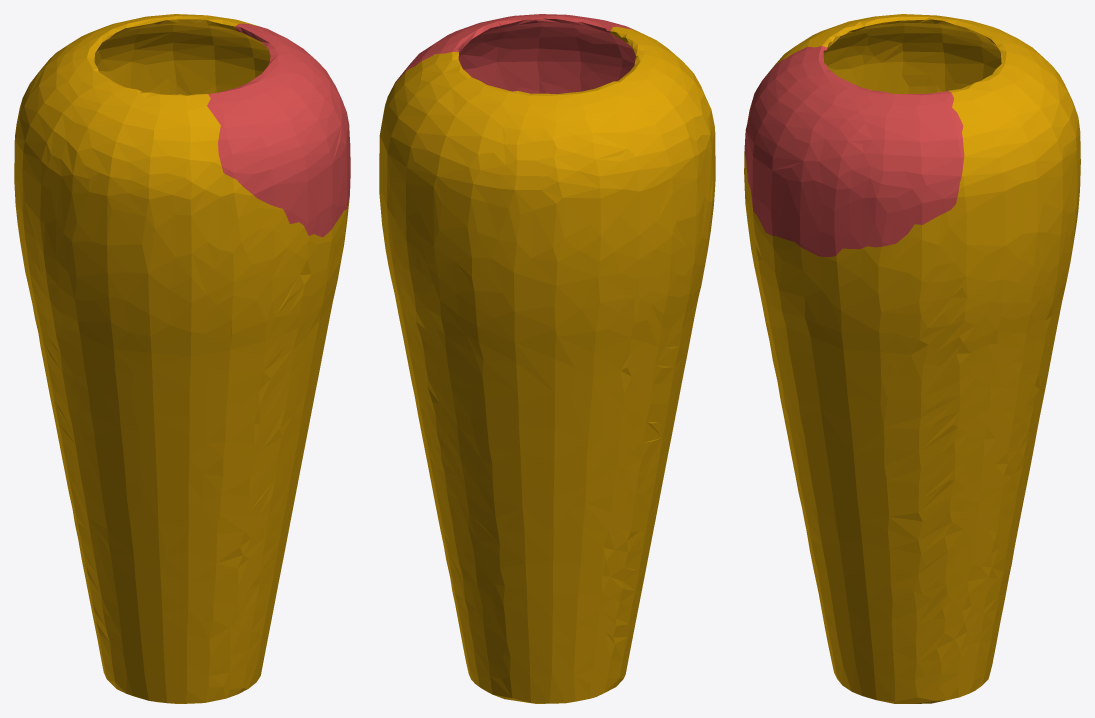
File: fractured_18_2pcs.glb
3 renders of one model, left to right at view 1: azimuth 30°, elevation 25°; view 2: azimuth 150°, elevation 25°; view 3: azimuth 270°, elevation 25°, orthographic.
Parts seen in each view (by area): view 1: piece_0.obj, piece_1.obj; view 2: piece_0.obj, piece_1.obj; view 3: piece_0.obj, piece_1.obj.
Boxes of the visible parts, bbox=[...] form: piece_0.obj: bbox=[14, 14, 349, 703]; piece_1.obj: bbox=[207, 23, 350, 237]; piece_0.obj: bbox=[379, 26, 715, 703]; piece_1.obj: bbox=[393, 14, 635, 93]; piece_0.obj: bbox=[744, 14, 1080, 703]; piece_1.obj: bbox=[744, 46, 964, 256].
Bounding box in the file's own units: 0.4943 × 1 × 0.4946.
